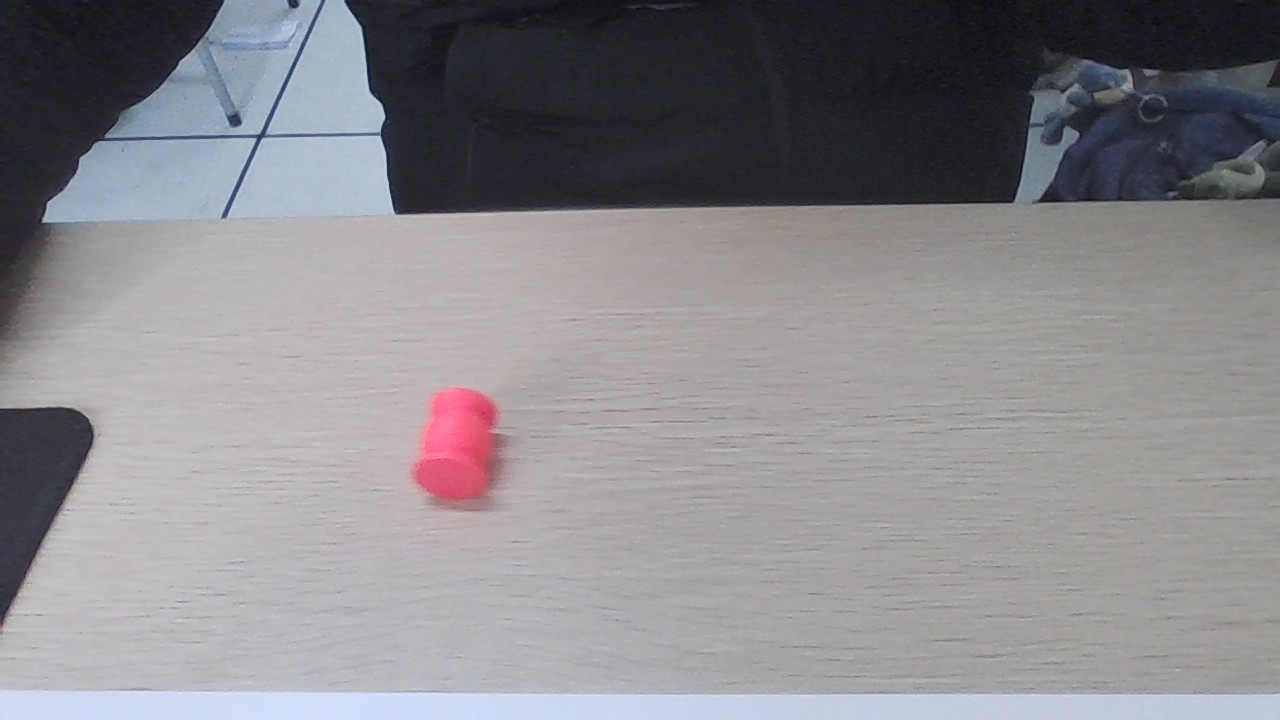KHS-plastic: (413, 386, 497, 502)
